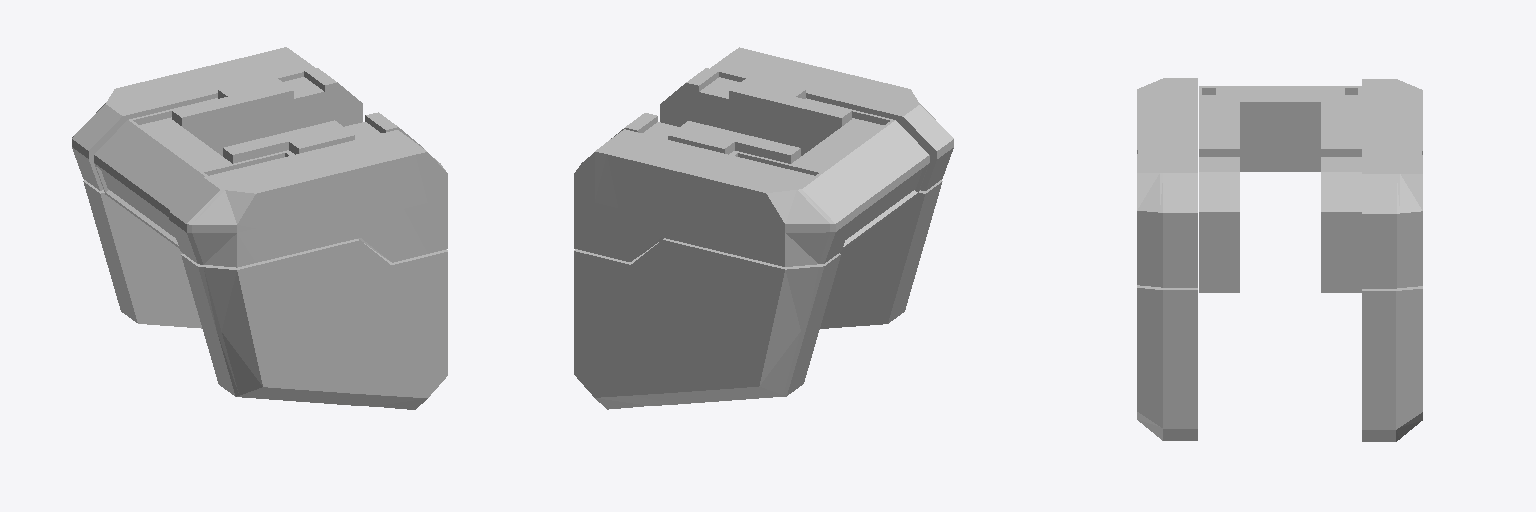
Rendered from rshouder.obj.
3 views of the same model, side by side, from view 1: azimuth 30°, elevation 25°; view 2: azimuth 150°, elevation 25°; view 3: azimuth 270°, elevation 25° (orthographic).
Size of the model in its own units: 2.95 by 3 by 2.85.